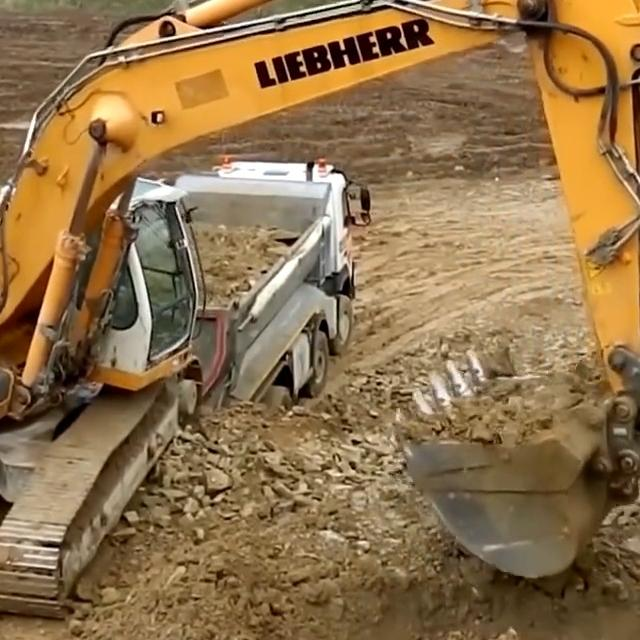Excavator: (0, 0, 640, 626)
Person: (113, 285, 134, 325)
dump truck: (173, 154, 372, 408)
